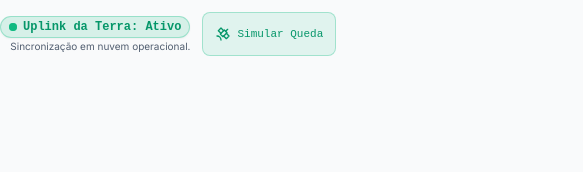
Test: ConnectionStatusWidget Component › 2. um clique gera exatamente 1 toast com texto exato, badge âmbar e persistência no localStorage (AAA)
This screenshot has width=583, height=172.
Click the button with test id "connection-status-toggle" at (269, 34), box [202,12,336,56]
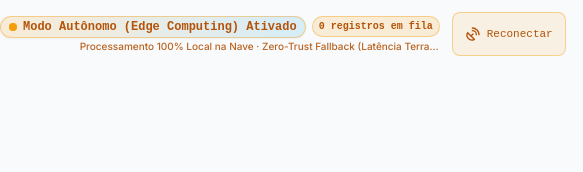
expect the element with test id "connection-status-badge" reads "Modo Autônomo (Edge Computing) Ativado": met, box [23,20,297,34]
expect the text "Reconectar" is shown: met, box [487,24,553,44]
expect the text "Processamento 100% Local na Nave · Zero-Trust Fallback (Latência Terra: 20 min)." is shown: met, box [80,40,440,52]
